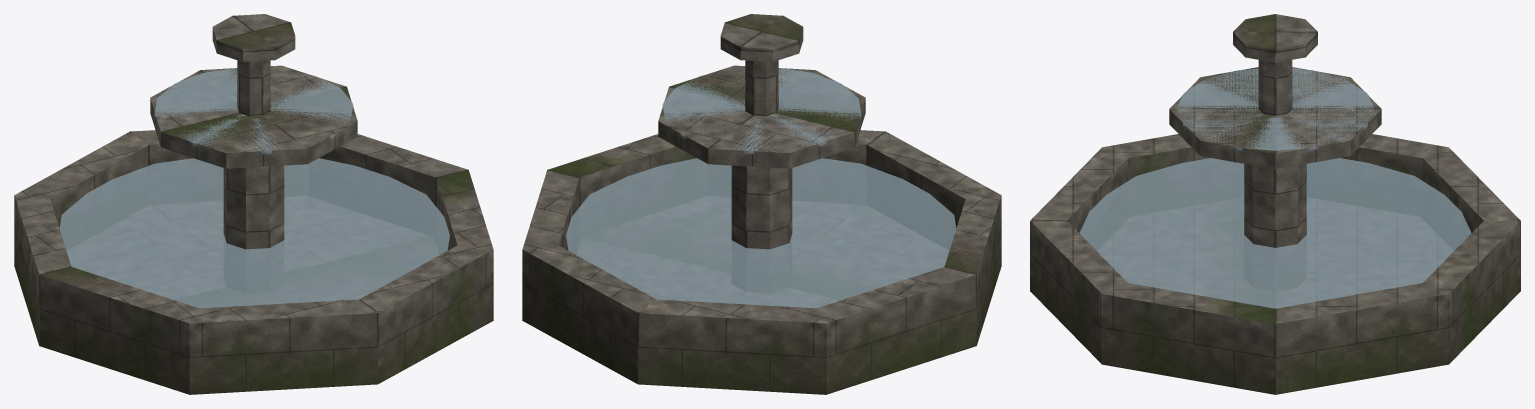
The model's file is bld_fountain_a_LOD0.glb.
The picture shows the model from 3 angles, left to right: view 1: azimuth 30°, elevation 25°; view 2: azimuth 150°, elevation 25°; view 3: azimuth 270°, elevation 25°; orthographic projection.
Visible parts, largest first — view 1: bld_fountain_a_stone, bld_fountain_a_water; view 2: bld_fountain_a_stone, bld_fountain_a_water; view 3: bld_fountain_a_stone, bld_fountain_a_water.
Boxes of the visible parts, <box> form: bld_fountain_a_stone: <box>14,14,493,394</box>; bld_fountain_a_water: <box>59,68,449,308</box>; bld_fountain_a_stone: <box>522,14,1001,394</box>; bld_fountain_a_water: <box>566,68,956,308</box>; bld_fountain_a_stone: <box>1030,14,1520,394</box>; bld_fountain_a_water: <box>1079,68,1471,308</box>.
Size of the model in its own units: 3.47 by 2.02 by 3.47.
Materials: 2 (1 with a texture image).
